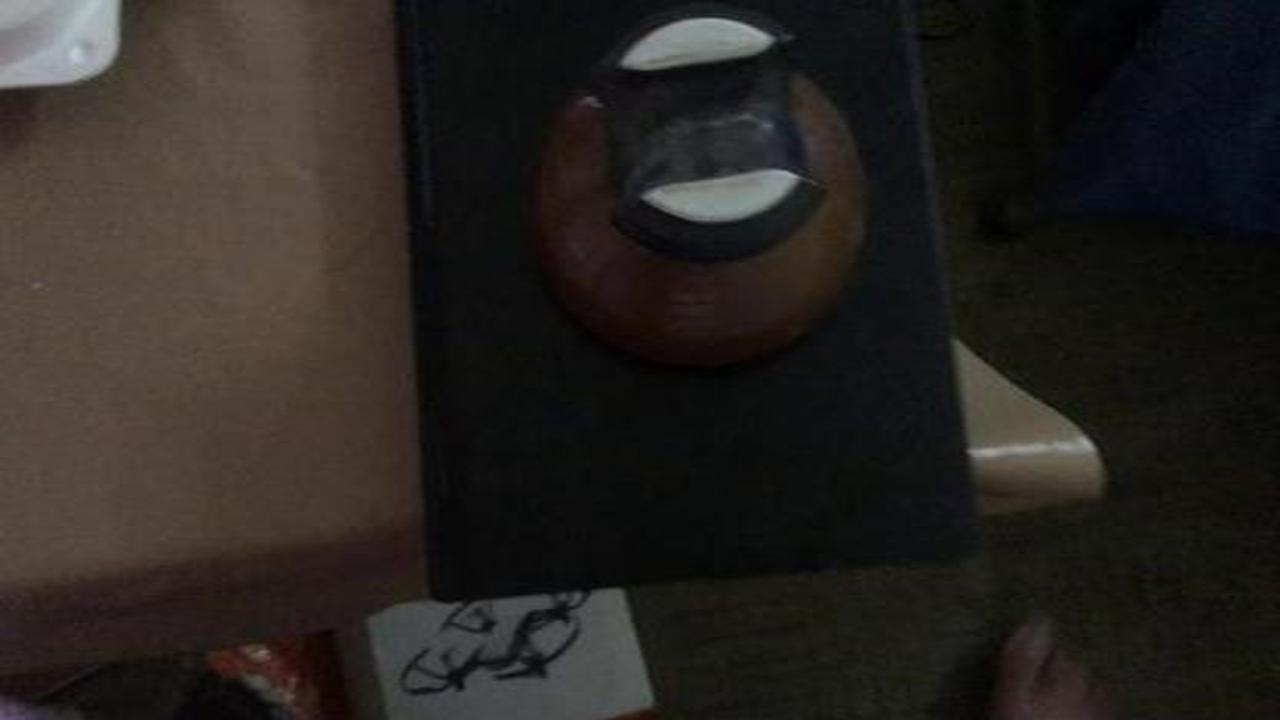insulator_pin: (496, 14, 893, 392)
